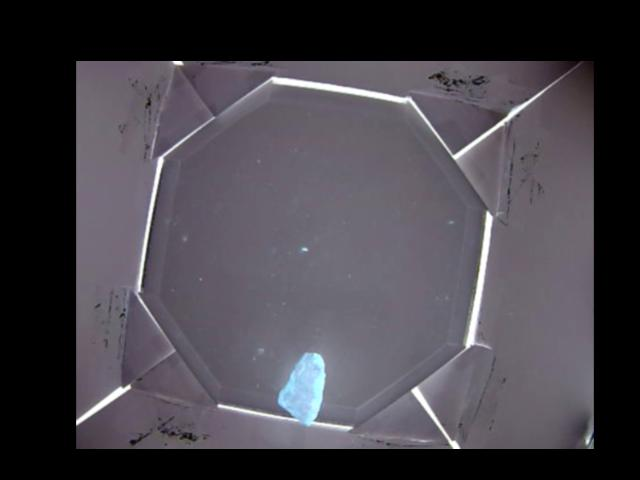Brisk: (280, 350, 326, 426)
